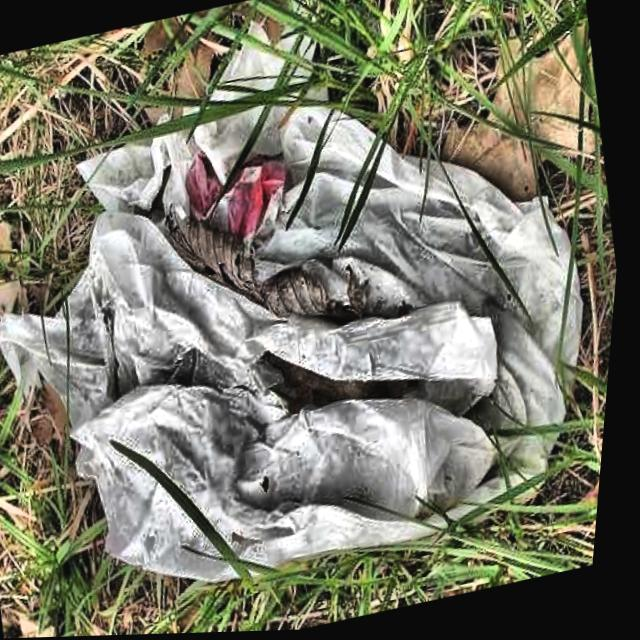Plastic: (75, 22, 624, 500), (66, 315, 547, 638)
